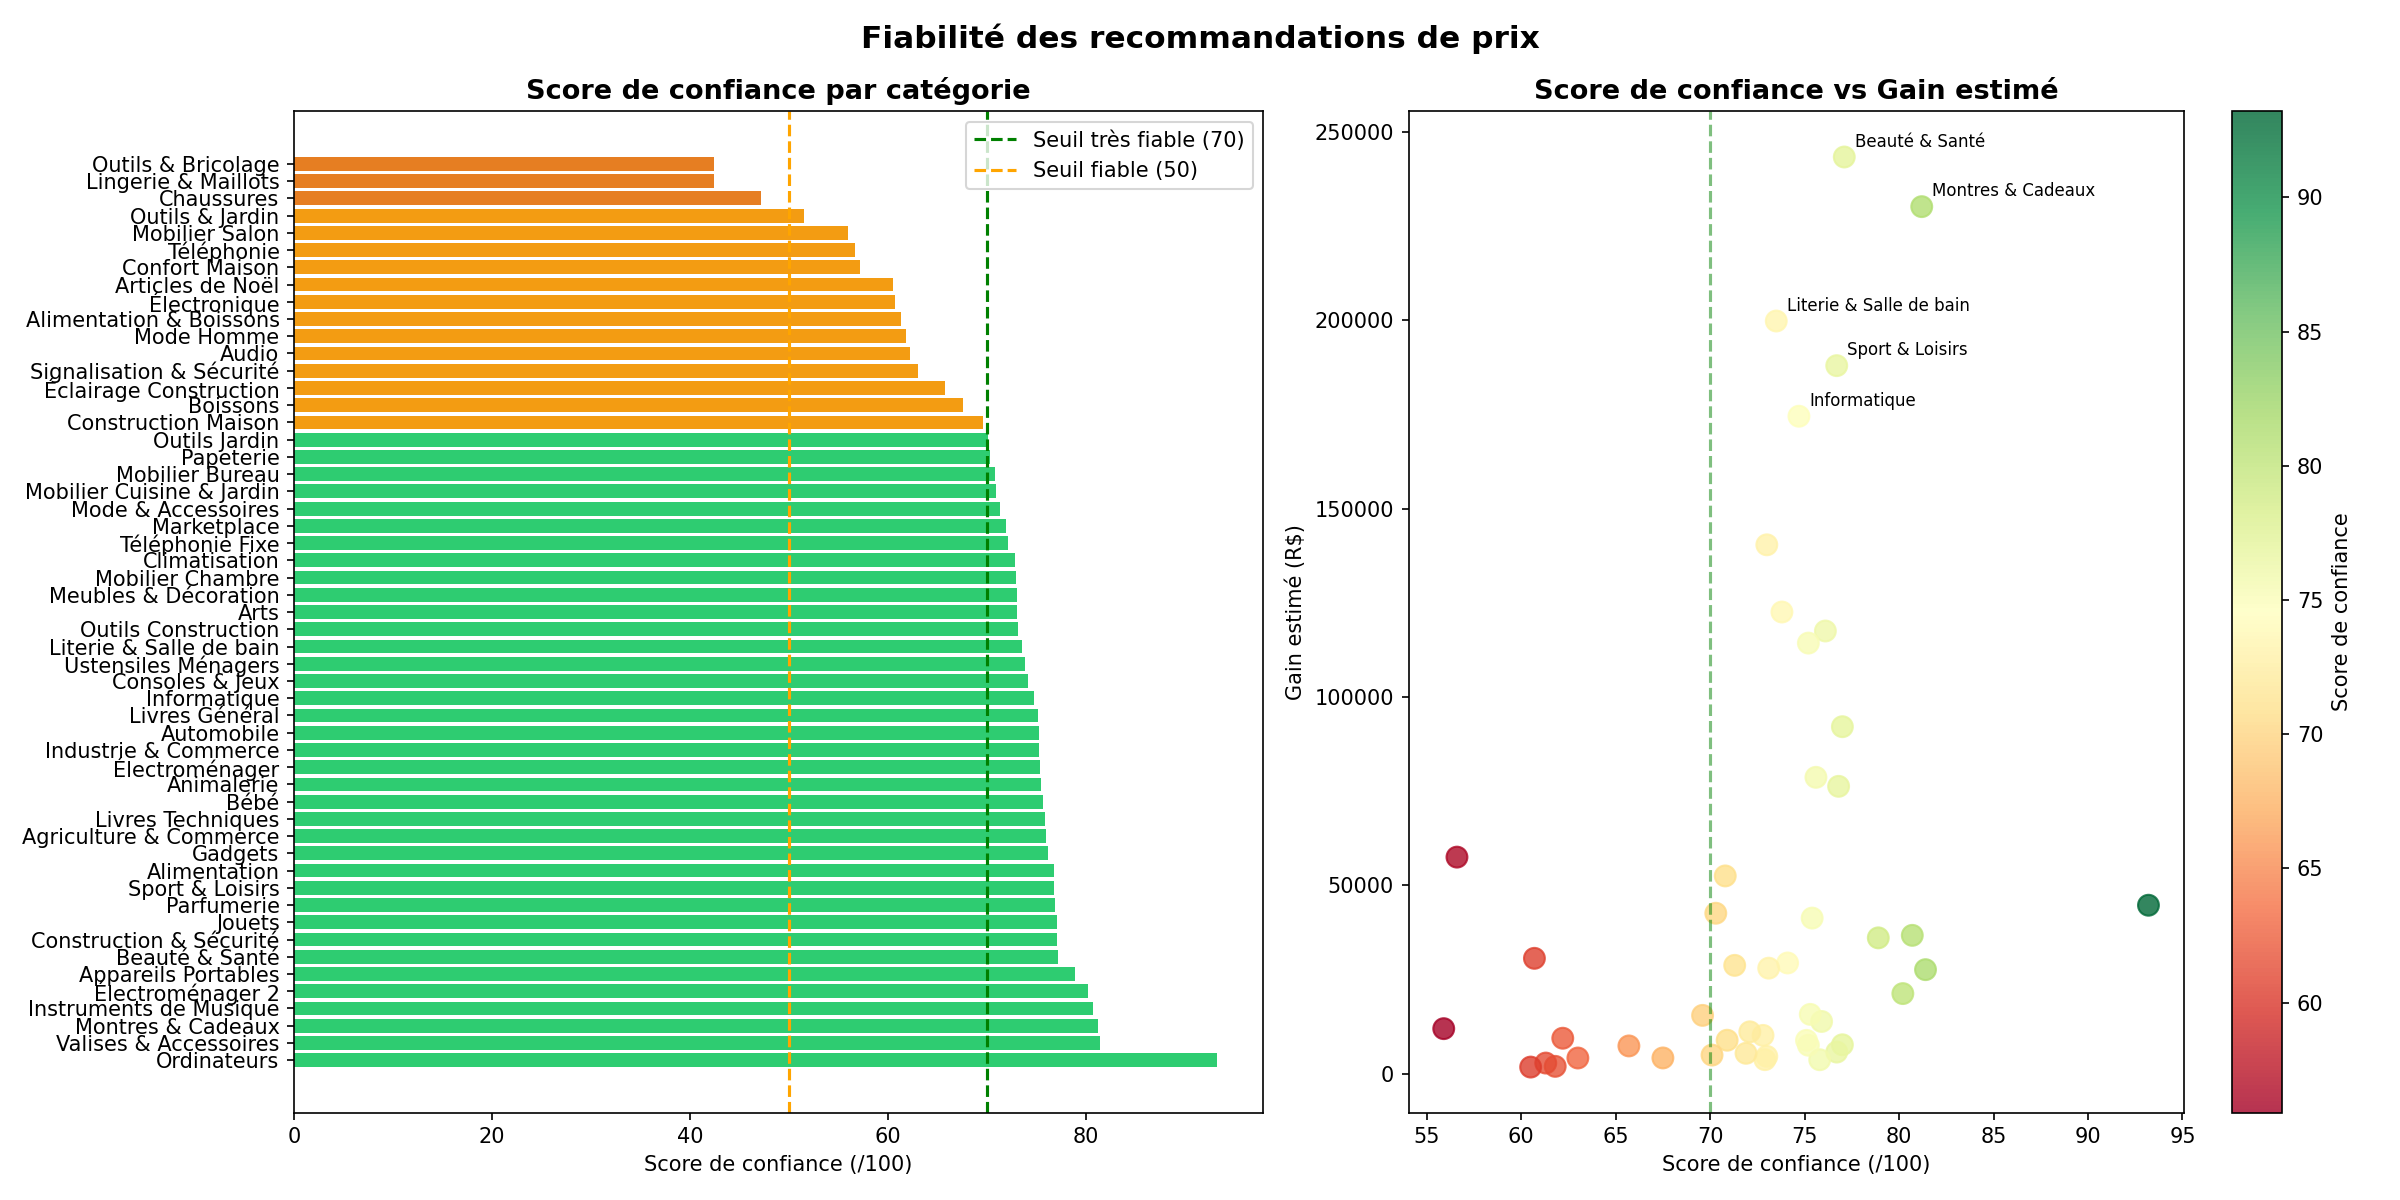

The page's visual inventory and layout, read from the dashboard file:
{"tool":"powerbi","page":{"name":"Recommandations","canvas":[1280,720],"ordinal":1},"visuals":[{"type":"tableEx","title":"Recommandations de Prix par Catégorie","fields":{"Values":["recommandations_finales.categorie","recommandations_finales.prix_actuel","Sum(recommandations_finales.prix_optimal)","Sum(recommandations_finales.gain_rs)","Sum(recommandations_finales.gain_pct)","Sum(recommandations_finales.score_confiance)","recommandations_finales.fiabilite"]},"box":[0,0,895,308.5],"z":0},{"type":"barChart","title":"Score de Confiance par Catégorie","fields":{"Category":["recommandations_finales.categorie"],"Y":["Sum(recommandations_finales.score_confiance)"]},"box":[385,320,895,400.3],"z":1}]}

Visuals, with their boxes on the page's 1280x720 design canvas (x1, y1, x2, y2). These are canvas units, not pixel positions in the 2400x1200 screenshot, which may show the page scaled, cropped or inside an application window:
"Recommandations de Prix par Catégorie" tableEx: 0 0 895 308
"Score de Confiance par Catégorie" barChart: 385 320 1280 720
